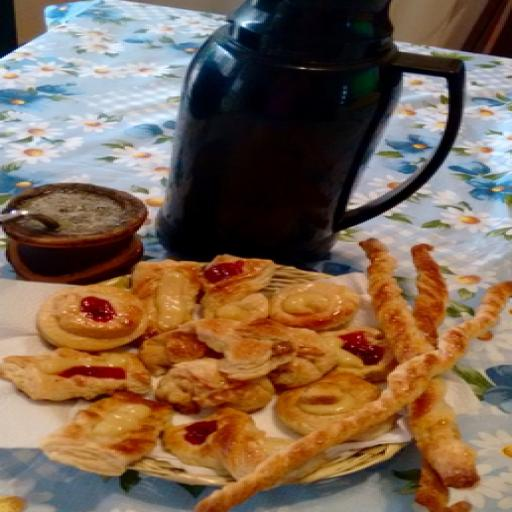bolleria: (199, 240, 511, 511), (40, 392, 170, 476), (163, 407, 291, 480), (195, 319, 335, 380), (0, 349, 150, 401), (38, 285, 148, 351), (276, 370, 381, 435), (155, 359, 273, 413)
mate: (4, 184, 146, 284)
termo: (157, 0, 464, 264)
